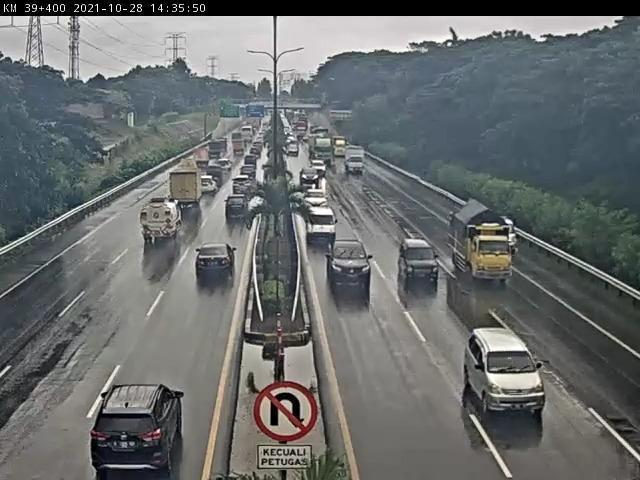car: (81, 376, 194, 476), (458, 333, 557, 422), (392, 238, 442, 286), (189, 249, 241, 294), (328, 237, 371, 289), (305, 208, 342, 248), (215, 193, 257, 227), (503, 208, 520, 262), (227, 182, 260, 205), (298, 190, 325, 209), (300, 165, 324, 185), (311, 159, 332, 180), (200, 174, 219, 197)
truck: (455, 199, 512, 284), (132, 192, 187, 251), (168, 167, 208, 211), (309, 134, 339, 169), (346, 143, 369, 184)
